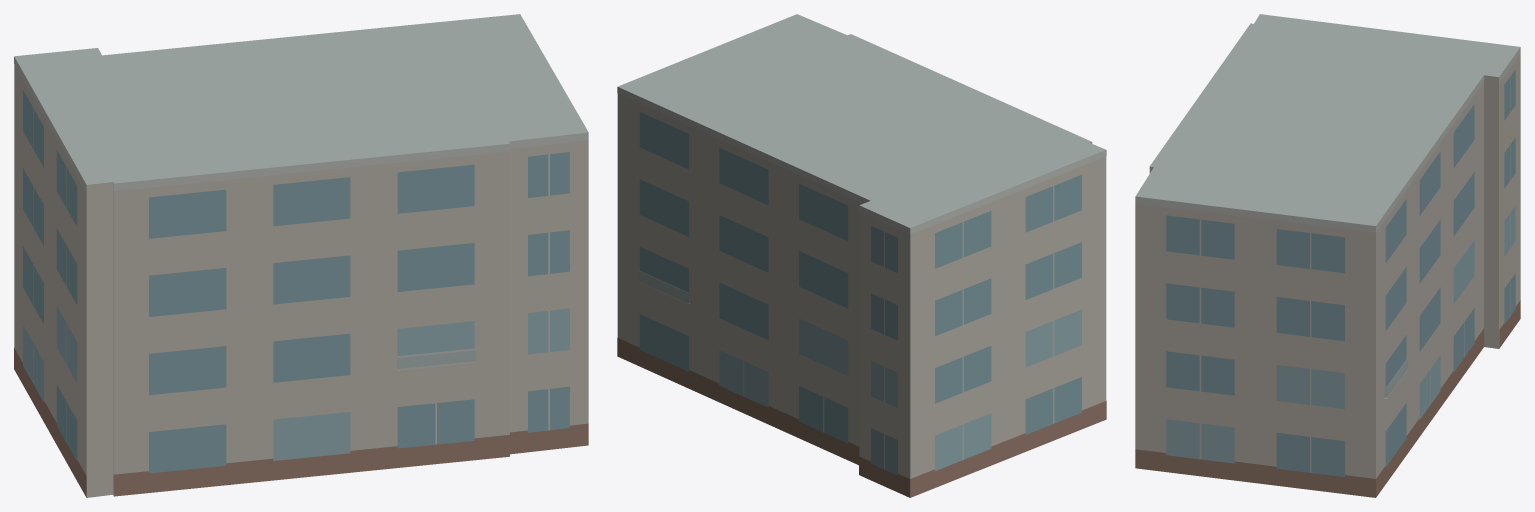
The model's file is survey-upis-32815319.glb.
3 renders of one model, left to right at view 1: azimuth 30°, elevation 25°; view 2: azimuth 150°, elevation 25°; view 3: azimuth 270°, elevation 25°, orthographic. The views are drawn at different scales.
Visible parts, largest first — view 1: survey-upis-32815319.tmp; view 2: survey-upis-32815319.tmp; view 3: survey-upis-32815319.tmp.
Boxes of the visible parts, box(x1,y1,x2,y2) form: survey-upis-32815319.tmp: box(14, 14, 588, 497); survey-upis-32815319.tmp: box(617, 14, 1106, 497); survey-upis-32815319.tmp: box(1135, 14, 1520, 497).
Bounding box in the file's own units: 16.75 × 10 × 12.86.
